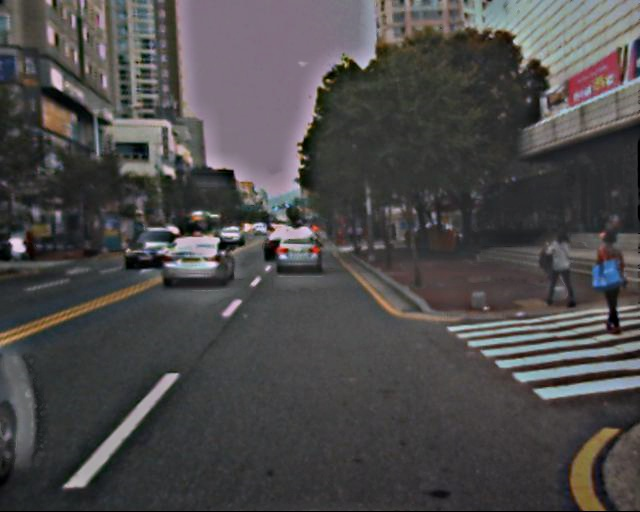person: (582, 226, 630, 342), (542, 227, 577, 312)
